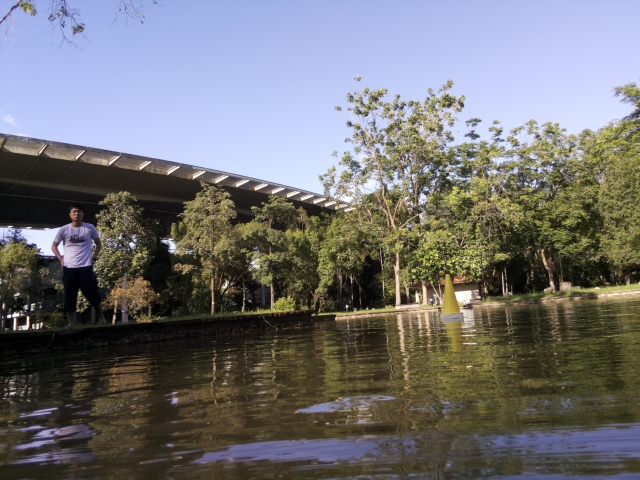checkpoint: (437, 272, 468, 325)
